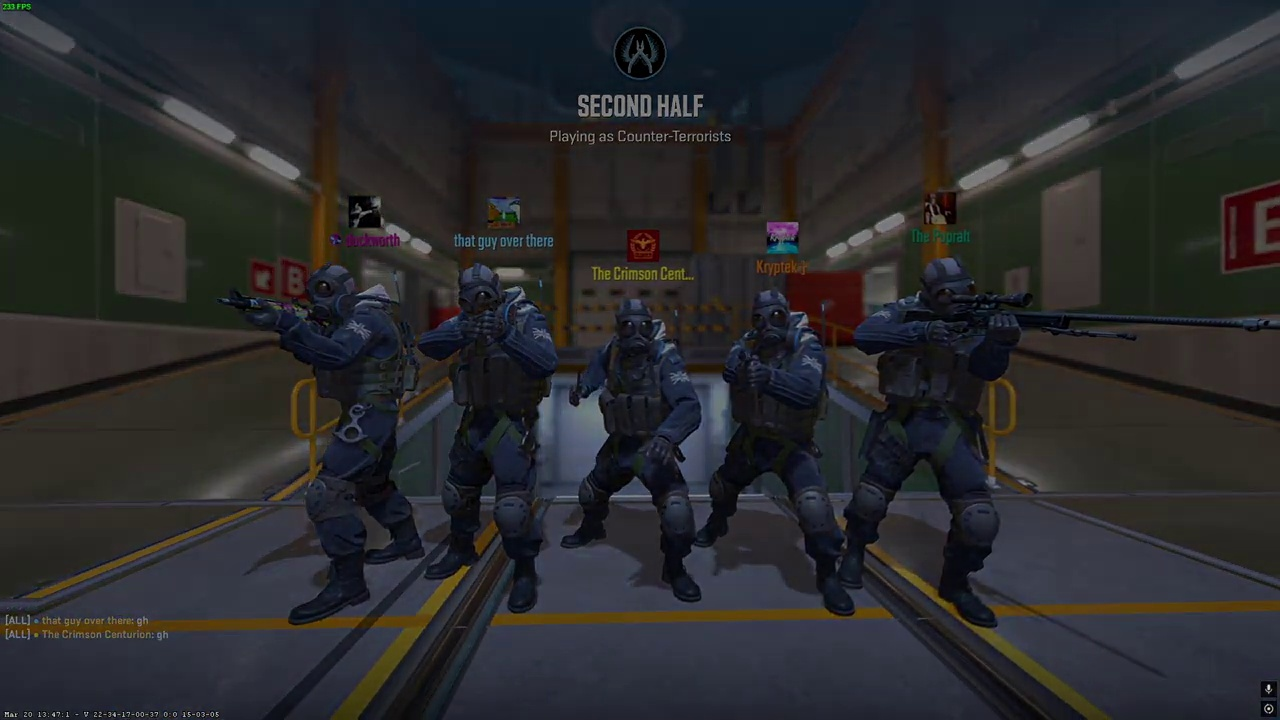CT: (845, 257, 1018, 621), (267, 264, 423, 619), (423, 262, 560, 614), (704, 288, 847, 610), (572, 299, 702, 600)
